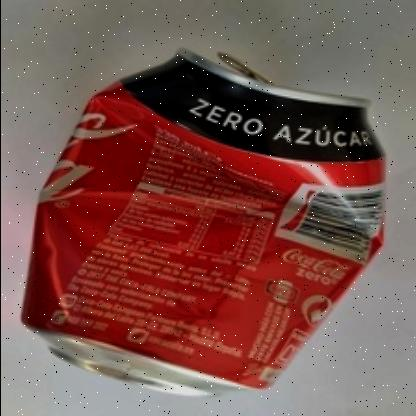Can: (19, 46, 388, 396)
